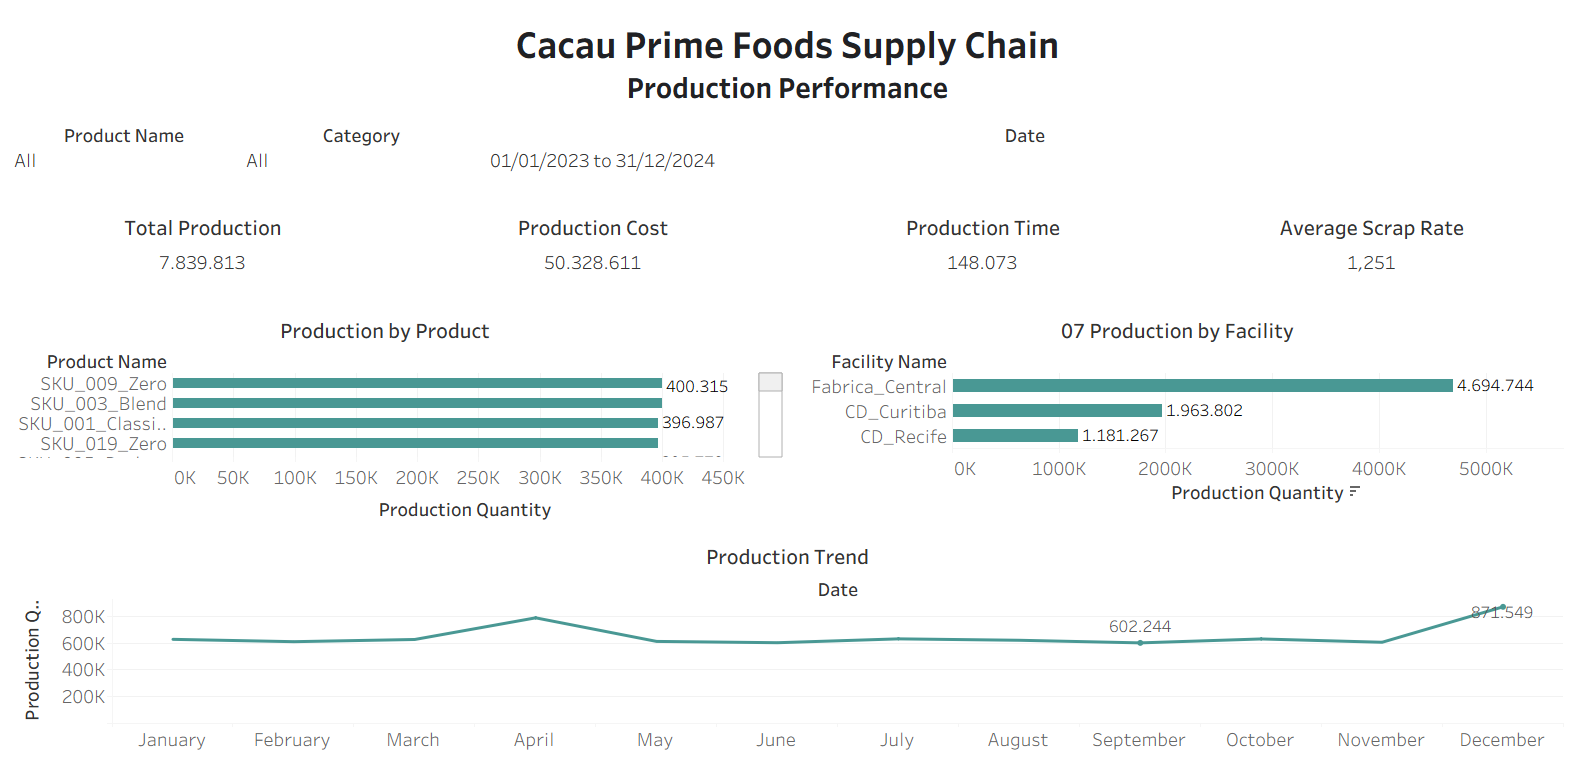

This screenshot's page, from the dashboard's own definition file:
{"tool":"tableau","page":{"name":"01 - Production Performance","canvas":[1000,1000],"units":"permille","ordinal":0},"visuals":[{"type":"title","box":[5.1,10.5,989.8,142.7]},{"type":"filter","title":"06 Production by Product","param":"[federated.0ukwhgz0pt1ek80zlywzp07lle96].[none:Product Name:nk]","box":[5.1,153.1,147.3,112.6]},{"type":"filter","title":"06 Production by Product","param":"[federated.0ukwhgz0pt1ek80zlywzp07lle96].[none:Category:nk]","box":[152.4,153.1,154.3,112.6]},{"type":"filter","title":"06 Production by Product","param":"[federated.0ukwhgz0pt1ek80zlywzp07lle96].[none:Date:qk]","box":[306.7,153.1,688.2,112.6]},{"type":"worksheet","title":"01 KPI - Total Production","mark":"Automatic","box":[5.1,265.7,247.5,134.8]},{"type":"worksheet","title":"02 KPI - Production Cost","mark":"Automatic","box":[252.5,265.7,247.5,134.8]},{"type":"worksheet","title":"03 KPI - Production Time","mark":"Automatic","box":[500,265.7,247.5,134.8]},{"type":"worksheet","title":"04 Average Scrap Rate","mark":"Automatic","box":[747.5,265.7,247.5,134.8]},{"type":"worksheet","title":"06 Production by Product","mark":"Automatic","rows":["Product Name"],"cols":["Production Quantity"],"box":[5.1,400.5,494.9,295.8]},{"type":"worksheet","title":"07 Production by Facility","mark":"Automatic","rows":["Facility Name"],"cols":["Production Quantity"],"box":[500,400.5,494.9,295.8]},{"type":"worksheet","title":"05 Production Trend","mark":"Automatic","rows":["Production Quantity"],"cols":["Date"],"box":[5.1,696.3,989.8,293.2]}]}

Visuals, with their boxes on the dashboard's canvas, which has no fixed pixel size, in thousandths of its width and height (x1, y1, x2, y2). These are canvas units, not pixel positions in the 1575x764 screenshot, which may show the page scaled, cropped or inside an application window:
title: BBox(5, 10, 995, 153)
"06 Production by Product" filter: BBox(5, 153, 152, 266)
"06 Production by Product" filter: BBox(152, 153, 307, 266)
"06 Production by Product" filter: BBox(307, 153, 995, 266)
"01 KPI - Total Production" worksheet: BBox(5, 266, 253, 400)
"02 KPI - Production Cost" worksheet: BBox(252, 266, 500, 400)
"03 KPI - Production Time" worksheet: BBox(500, 266, 748, 400)
"04 Average Scrap Rate" worksheet: BBox(748, 266, 995, 400)
"06 Production by Product" worksheet: BBox(5, 400, 500, 696)
"07 Production by Facility" worksheet: BBox(500, 400, 995, 696)
"05 Production Trend" worksheet: BBox(5, 696, 995, 990)
